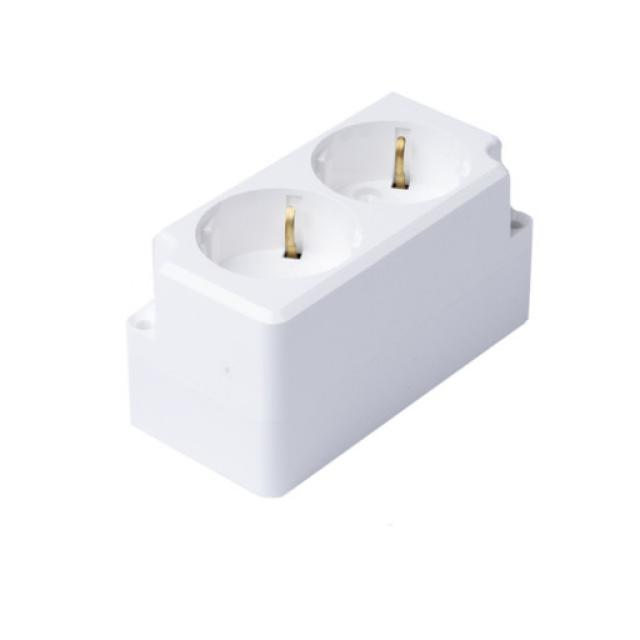typeb: (87, 67, 581, 487)
